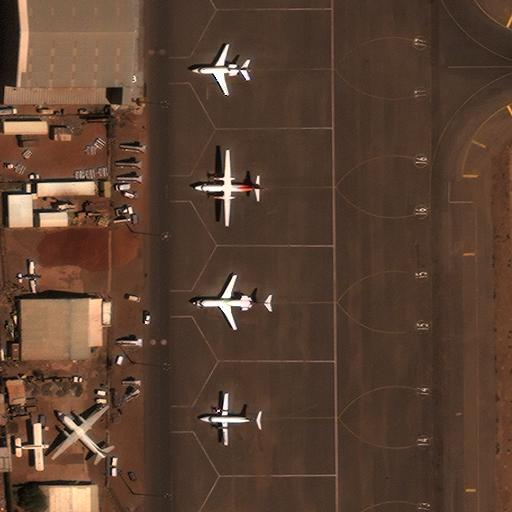Medium Civil Transport: (194, 150, 267, 226), (192, 274, 271, 330), (199, 393, 261, 445), (191, 44, 251, 96), (51, 404, 108, 457), (14, 423, 49, 469)
Small Civil Transport: (17, 261, 40, 293)
